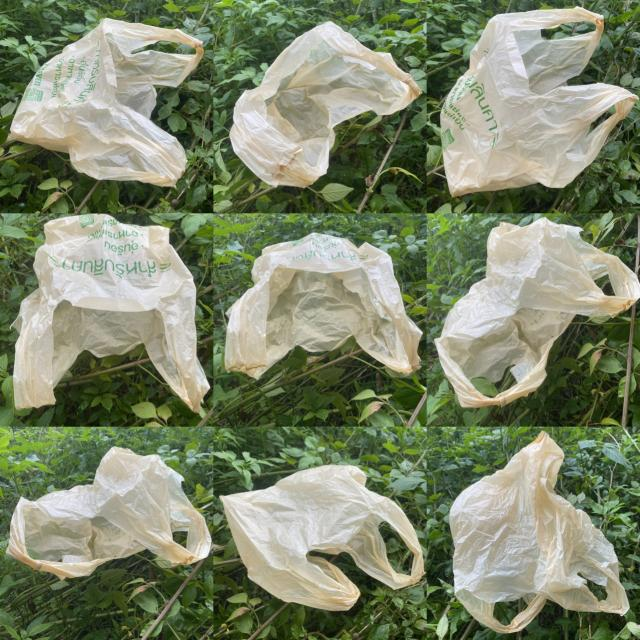Single-layer Plastic: (435, 218, 640, 408), (14, 215, 210, 412), (441, 8, 638, 196), (450, 431, 629, 633), (10, 19, 204, 186), (230, 21, 421, 188), (221, 465, 424, 611), (225, 232, 421, 378), (6, 446, 211, 579)
